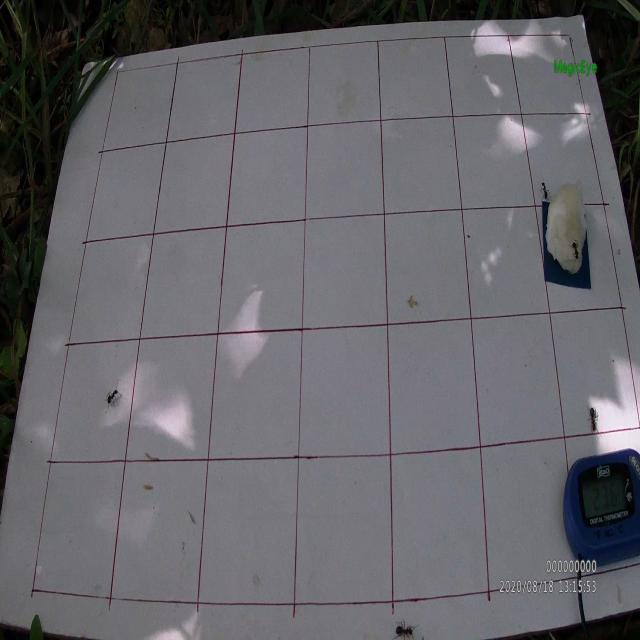Ant: (104, 378, 122, 414), (392, 617, 420, 640), (585, 403, 602, 438), (567, 235, 581, 261), (539, 176, 550, 202)
